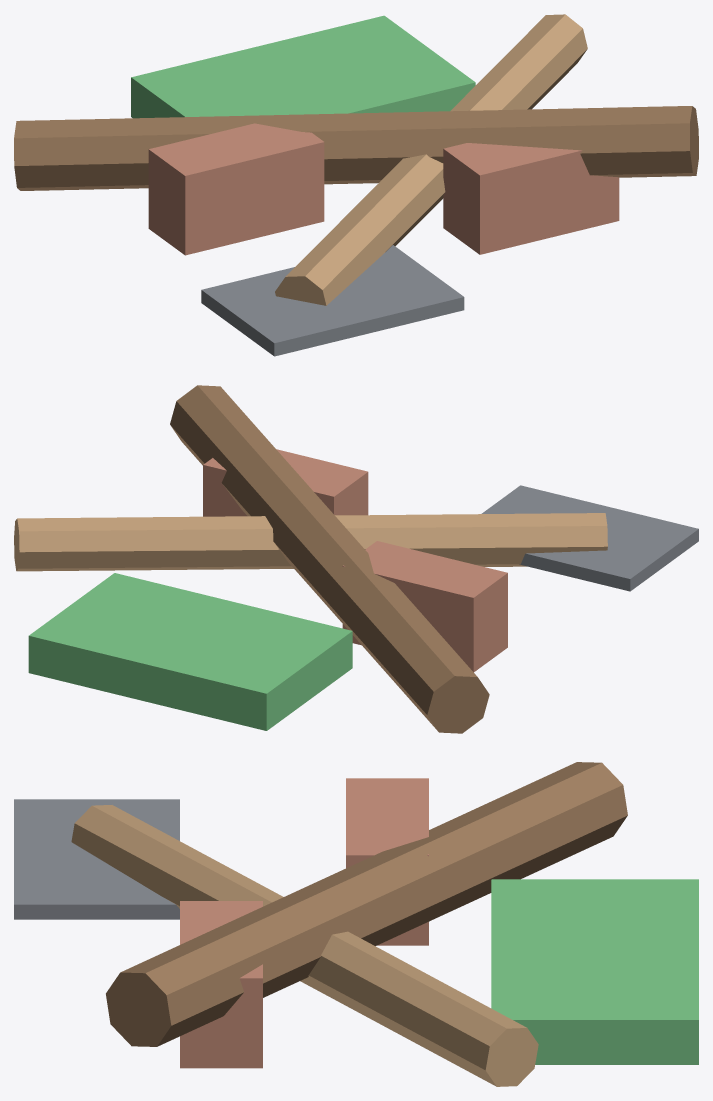
File: debris.glb
The picture shows the model from 3 angles, top to bottom: view 1: azimuth 30°, elevation 25°; view 2: azimuth 150°, elevation 25°; view 3: azimuth 270°, elevation 25°; orthographic projection. The views are drawn at different scales.
Parts seen in each view (by area): view 1: debris; view 2: debris; view 3: debris.
Boxes of the visible parts, x1,y1,x2,y2 form: debris: (14, 14, 698, 356); debris: (14, 385, 698, 733); debris: (14, 762, 698, 1086).
Size of the model in its own units: 0.8528 by 0.1693 by 0.825.
